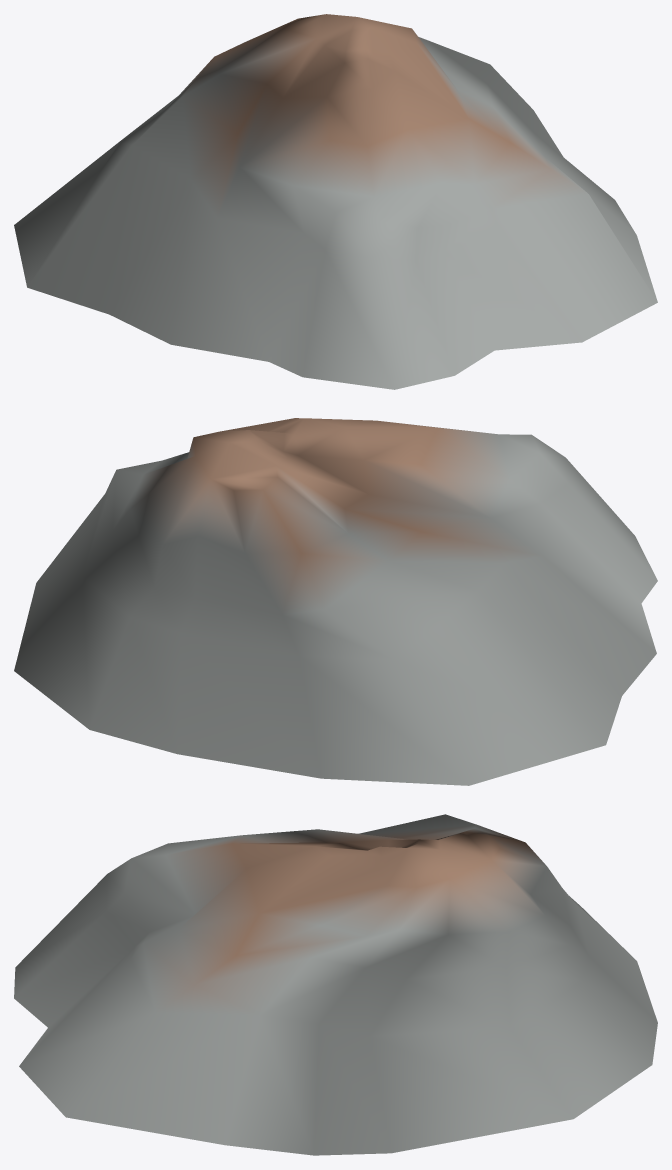
3 renders of one model, top to bottom at view 1: azimuth 30°, elevation 25°; view 2: azimuth 150°, elevation 25°; view 3: azimuth 270°, elevation 25°, orthographic. The views are drawn at different scales.
Parts seen in each view (by area): view 1: G:\FFXIV-MapTools\exports\s1f6\bg\ffxiv\sea_s1\fld\s1f5\bgpa; view 2: G:\FFXIV-MapTools\exports\s1f6\bg\ffxiv\sea_s1\fld\s1f5\bgpa; view 3: G:\FFXIV-MapTools\exports\s1f6\bg\ffxiv\sea_s1\fld\s1f5\bgpa.
Boxes of the visible parts, <box> form: G:\FFXIV-MapTools\exports\s1f6\bg\ffxiv\sea_s1\fld\s1f5\bgpa: <box>14,14,657,389</box>; G:\FFXIV-MapTools\exports\s1f6\bg\ffxiv\sea_s1\fld\s1f5\bgpa: <box>14,418,657,785</box>; G:\FFXIV-MapTools\exports\s1f6\bg\ffxiv\sea_s1\fld\s1f5\bgpa: <box>14,814,657,1155</box>.
Bounding box in the file's own units: 11.44 × 3.9 × 11.21.
